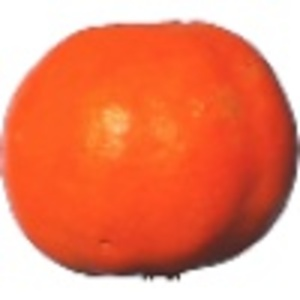tangerina: (2, 17, 300, 280)
